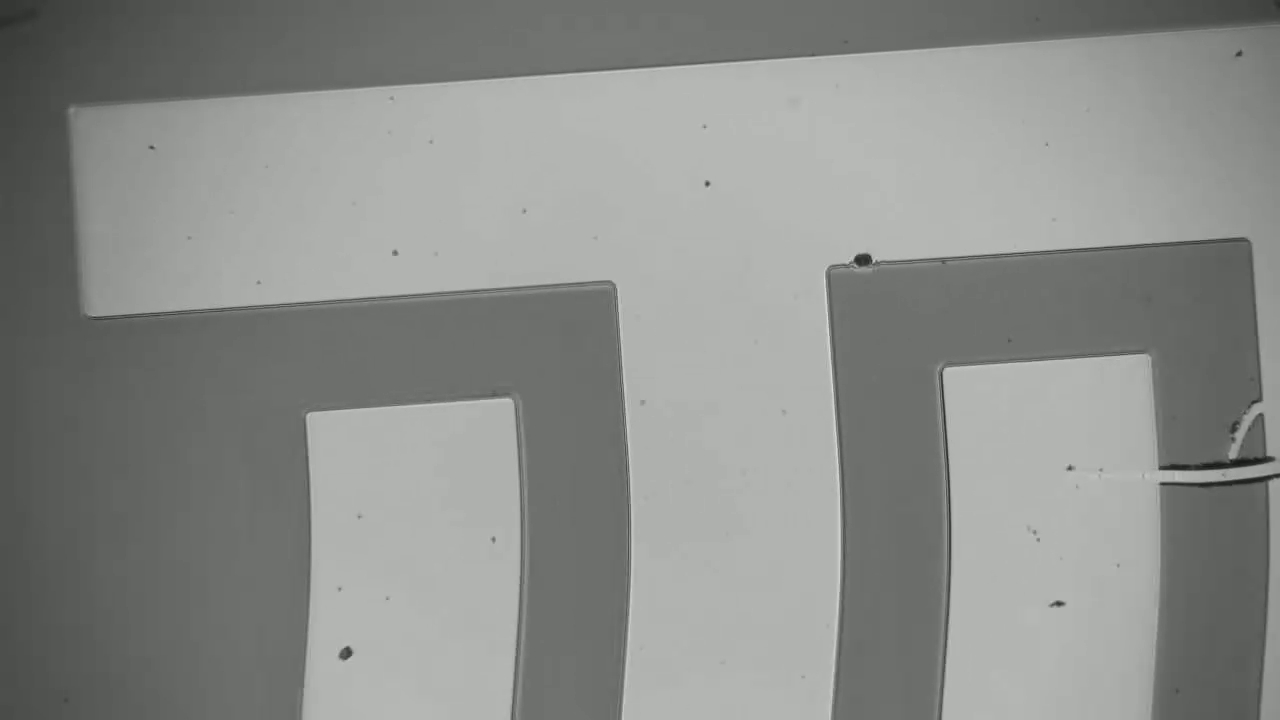Short_circuit: (1127, 435, 1280, 505)
